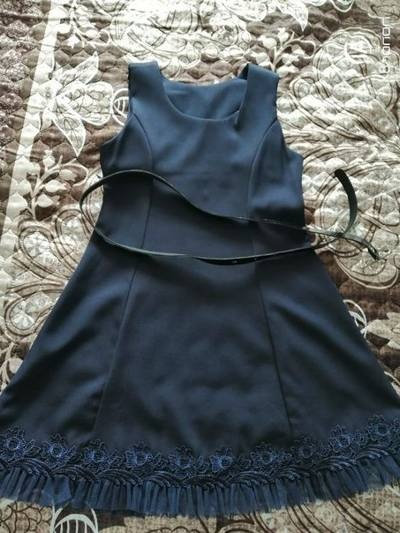Dress: (10, 52, 380, 520)
